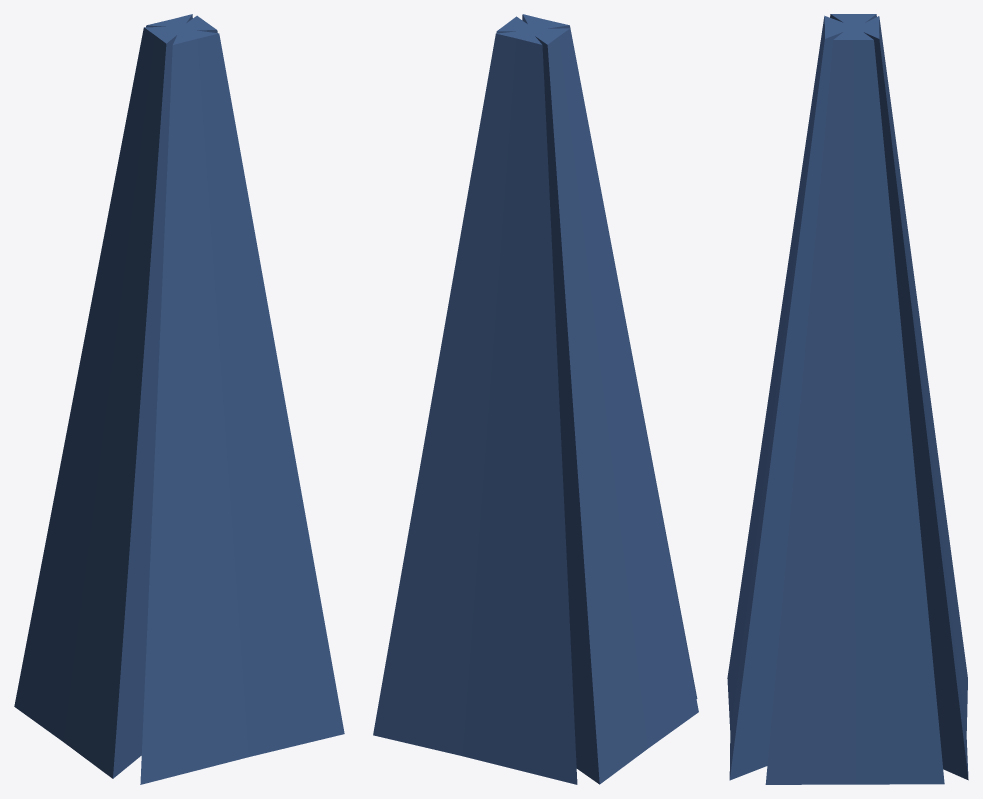
File: tree-winter-leaves-008.glb
3 views of the same model, side by side, from view 1: azimuth 30°, elevation 25°; view 2: azimuth 150°, elevation 25°; view 3: azimuth 270°, elevation 25° (orthographic). The views are drawn at different scales.
Parts seen in each view (by area): view 1: Circle.034_130; view 2: Circle.034_130; view 3: Circle.034_130.
Part boxes in pixels (x1,y1,x2,y2): Circle.034_130: [14, 14, 344, 784]; Circle.034_130: [373, 14, 698, 784]; Circle.034_130: [727, 14, 968, 784].
Bounding box in the file's own units: 0.5359 × 1.54 × 0.4779.
